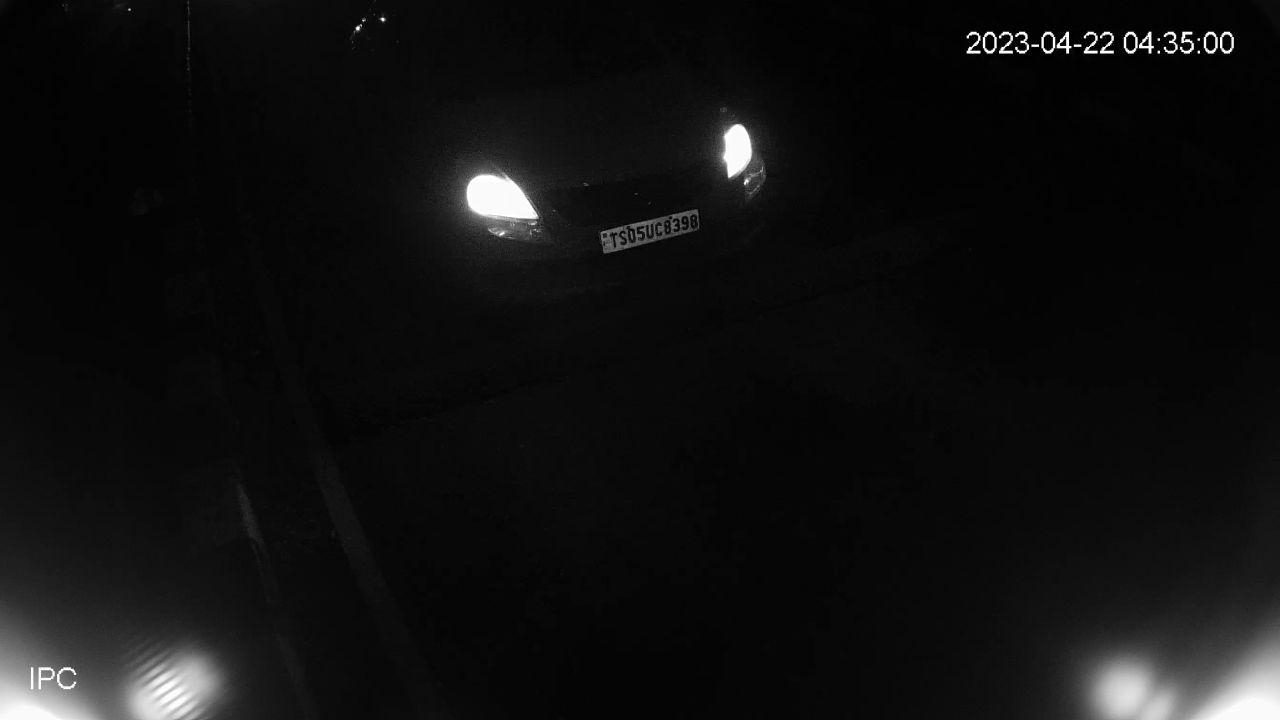license_plate: (597, 203, 703, 259)
